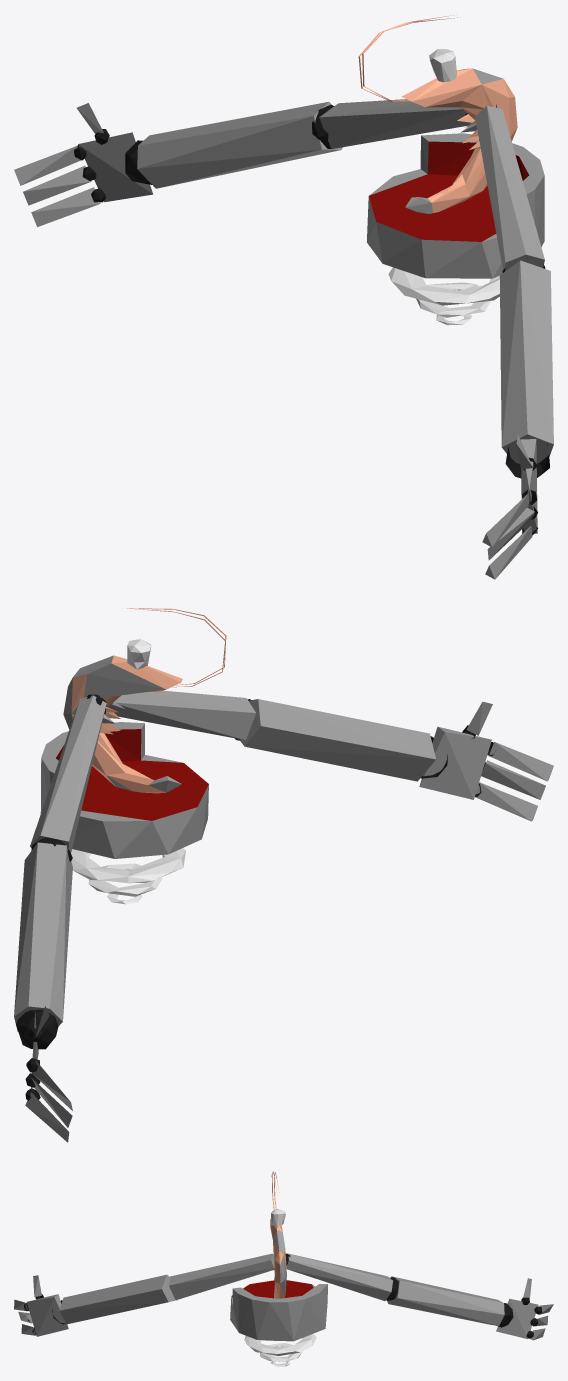
File: SHRIMP.fbx
3 renders of one model, top to bottom at view 1: azimuth 30°, elevation 25°; view 2: azimuth 150°, elevation 25°; view 3: azimuth 270°, elevation 25°, orthographic. The views are drawn at different scales.
Visible parts, largest first — view 1: S.H.R.I.M.P; view 2: S.H.R.I.M.P; view 3: S.H.R.I.M.P.
Part boxes in pixels (left/top/right/bottom): S.H.R.I.M.P: left=14, top=14, right=553, bottom=579; S.H.R.I.M.P: left=14, top=608, right=553, bottom=1142; S.H.R.I.M.P: left=14, top=1171, right=553, bottom=1366.
Size of the model in its own units: 81.18 by 95.82 by 241.
